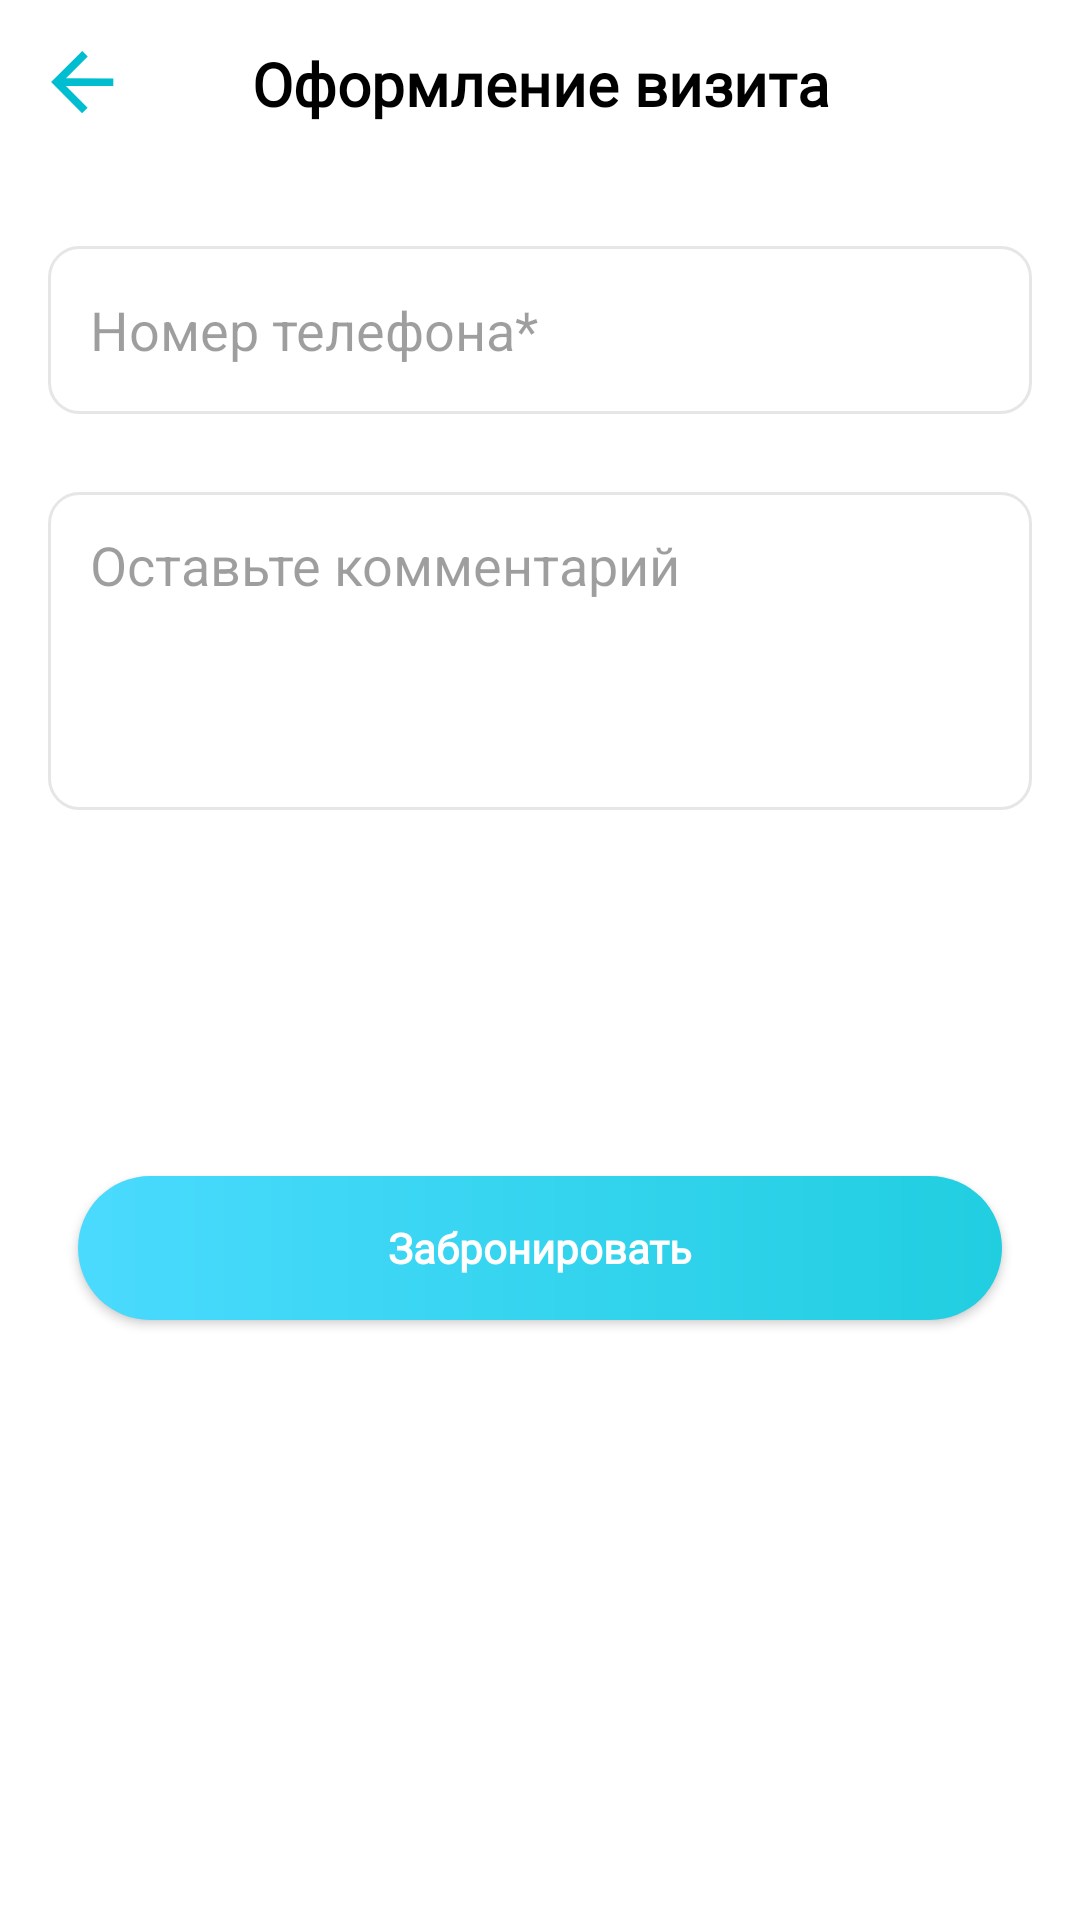

Locate icon controls on the screen. Image size 1080 x 1920, boxes as (x1, y1, x2, y2).
arrow back: (51, 51, 114, 113)
